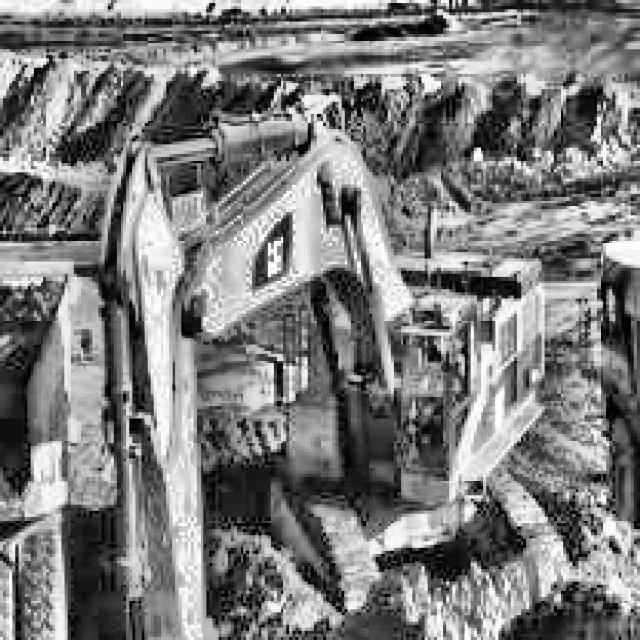dump_truck: (0, 227, 80, 640)
excavator: (68, 92, 554, 640)
